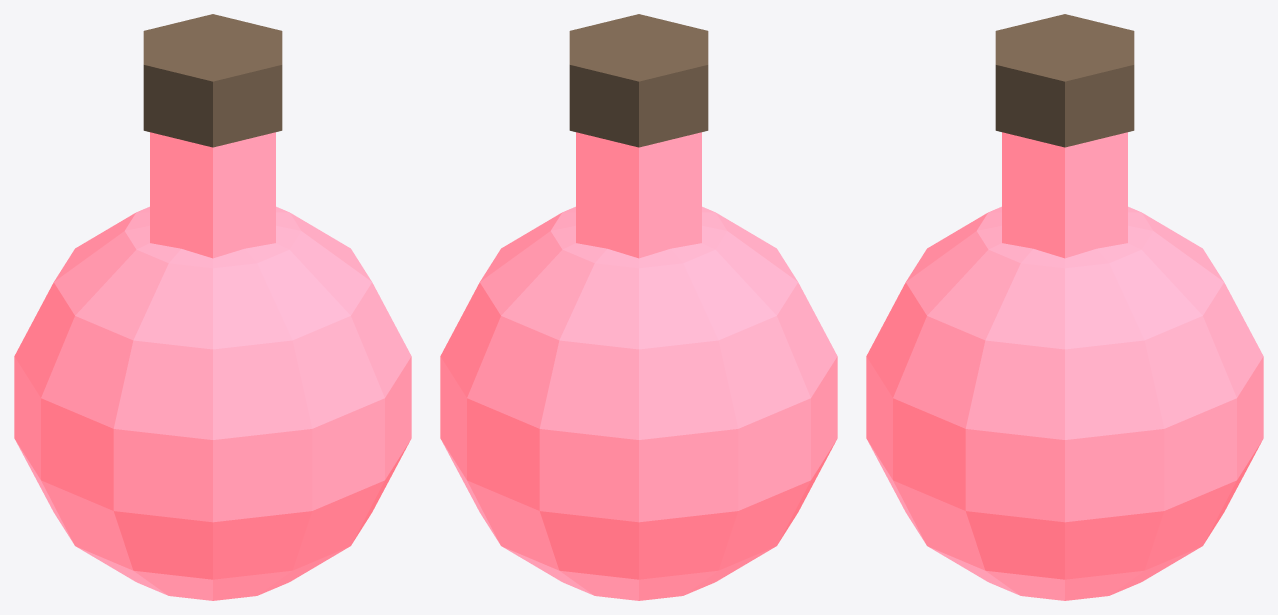
File: potion_red.glb
3 renders of one model, left to right at view 1: azimuth 30°, elevation 25°; view 2: azimuth 150°, elevation 25°; view 3: azimuth 270°, elevation 25°, orthographic.
Visible parts, largest first — view 1: potion_red_00, potion_red_02, potion_red_01; view 2: potion_red_00, potion_red_02, potion_red_01; view 3: potion_red_00, potion_red_02, potion_red_01.
Part boxes in pixels (bbox=[...]): potion_red_00: bbox=[14, 206, 411, 600]; potion_red_02: bbox=[143, 14, 282, 147]; potion_red_01: bbox=[150, 132, 275, 258]; potion_red_00: bbox=[440, 206, 837, 600]; potion_red_02: bbox=[569, 14, 708, 147]; potion_red_01: bbox=[576, 132, 701, 258]; potion_red_00: bbox=[866, 206, 1263, 600]; potion_red_02: bbox=[995, 14, 1134, 147]; potion_red_01: bbox=[1002, 132, 1127, 258].
Bounding box in the file's own units: 0.273 × 0.405 × 0.273.
